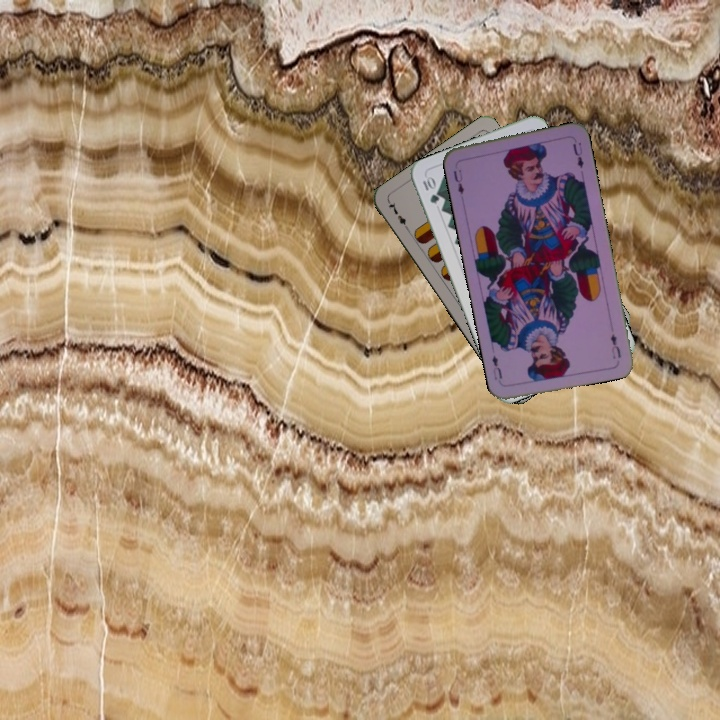E7: (384, 198, 412, 233)
EU: (449, 165, 467, 197), (606, 330, 623, 361)
G10: (419, 172, 442, 206)
